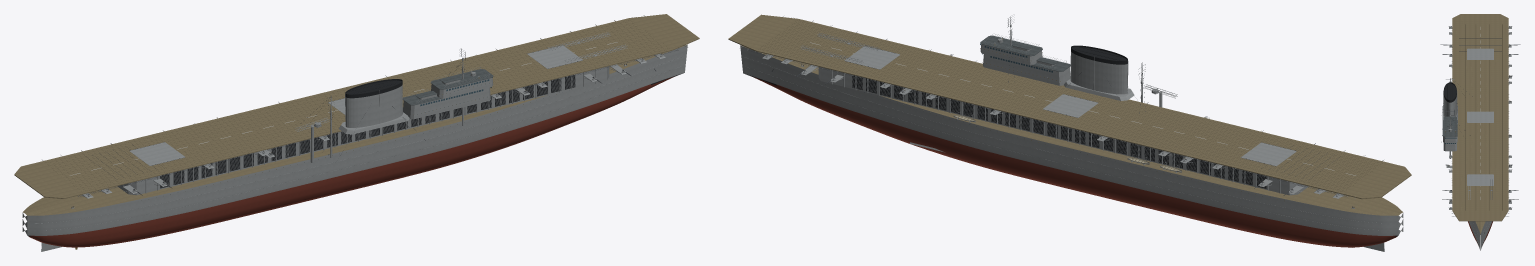
File: demo-yorktown.glb
The picture shows the model from 3 angles, left to right: view 1: azimuth 30°, elevation 25°; view 2: azimuth 150°, elevation 25°; view 3: azimuth 270°, elevation 25°; orthographic projection. The views are drawn at different scales.
Parts seen in each view (by area): view 1: USS Yorktown (CV-5), Midway1942; view 2: USS Yorktown (CV-5), Midway1942; view 3: USS Yorktown (CV-5), Midway1942.
Part boxes in pixels (x1,y1,x2,y2): USS Yorktown (CV-5), Midway1942: (14, 14, 699, 251); USS Yorktown (CV-5), Midway1942: (728, 14, 1411, 251); USS Yorktown (CV-5), Midway1942: (1440, 14, 1520, 250).
Size of the model in its own units: 247 by 44.05 by 39.92.
10 materials, 9 textured.
